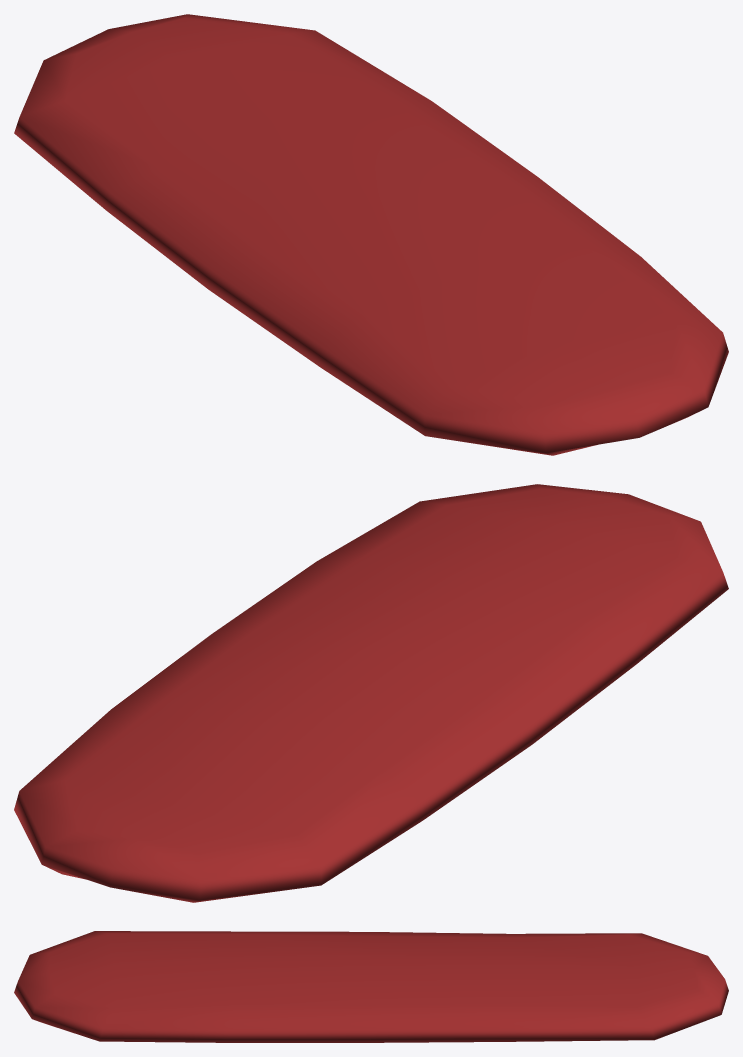
Rendered from Dust_thin.fbx.
3 renders of one model, top to bottom at view 1: azimuth 30°, elevation 25°; view 2: azimuth 150°, elevation 25°; view 3: azimuth 270°, elevation 25°, orthographic. The views are drawn at different scales.
Visible parts, largest first — view 1: pCube228; view 2: pCube228; view 3: pCube228.
Boxes of the visible parts, box(x1,y1,x2,y2) form: pCube228: box(14, 14, 728, 455); pCube228: box(14, 484, 728, 902); pCube228: box(14, 931, 728, 1042).
Size of the model in its own units: 168 by 35 by 466.
